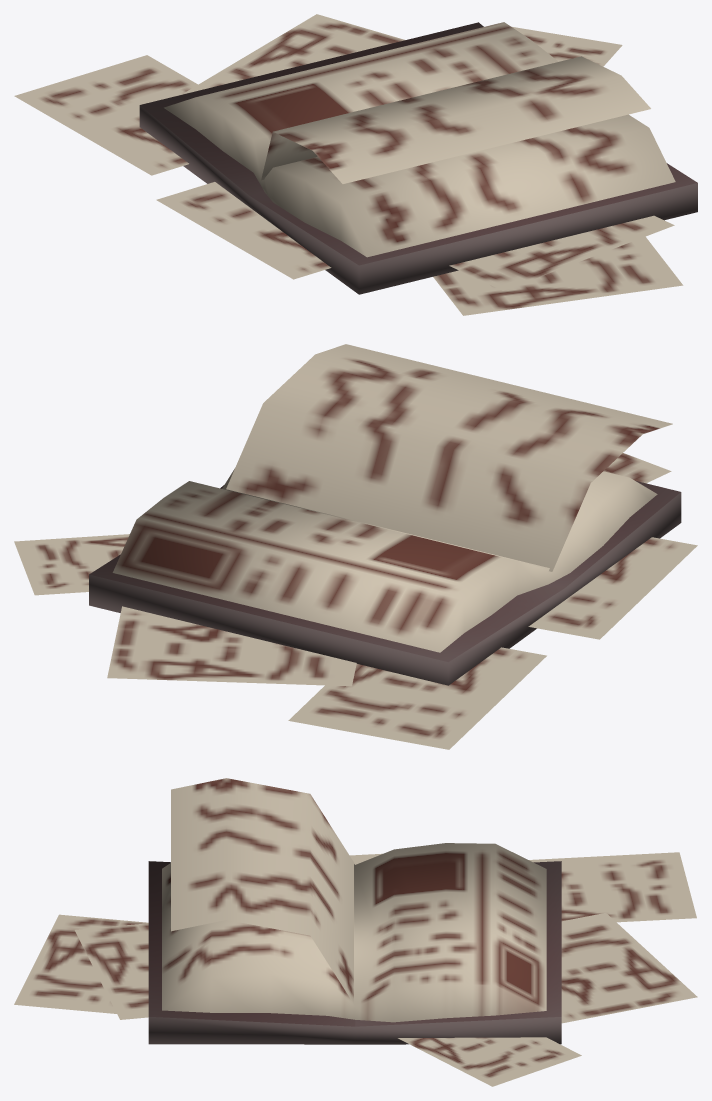
Rendered from LivroAberto.fbx.
3 renders of one model, top to bottom at view 1: azimuth 30°, elevation 25°; view 2: azimuth 150°, elevation 25°; view 3: azimuth 270°, elevation 25°, orthographic. The views are drawn at different scales.
Parts seen in each view (by area): view 1: LivroAberto; view 2: LivroAberto; view 3: LivroAberto.
Boxes of the visible parts, <box> form: LivroAberto: <box>14,14,697,315</box>; LivroAberto: <box>14,344,697,749</box>; LivroAberto: <box>14,778,697,1086</box>.
Size of the model in its own units: 174 by 215 by 37.66.
